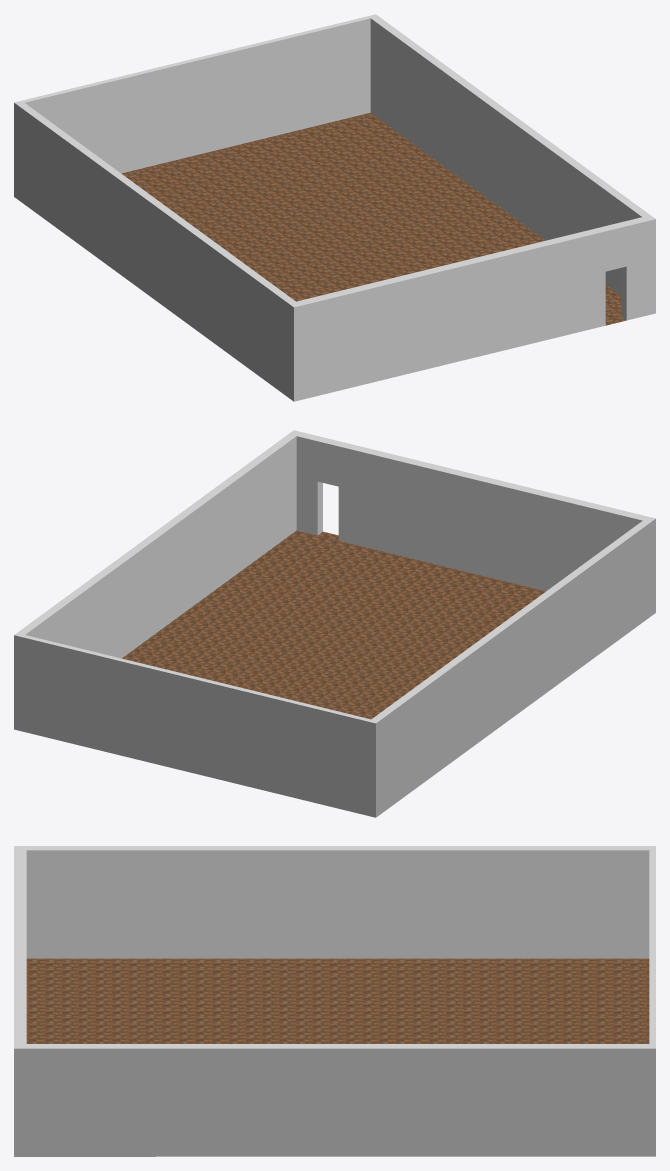
File: ComputerRoom.fbx
3 views of the same model, one above another, from view 1: azimuth 30°, elevation 25°; view 2: azimuth 150°, elevation 25°; view 3: azimuth 270°, elevation 25° (orthographic). The views are drawn at different scales.
Parts seen in each view (by area): view 1: Classroom 1.024; view 2: Classroom 1.024; view 3: Classroom 1.024.
Part boxes in pixels (left/top/right/bottom): Classroom 1.024: left=14, top=14, right=655, bottom=401; Classroom 1.024: left=14, top=430, right=655, bottom=817; Classroom 1.024: left=14, top=846, right=655, bottom=1156.
Size of the model in its own units: 2732 by 680 by 3659.
